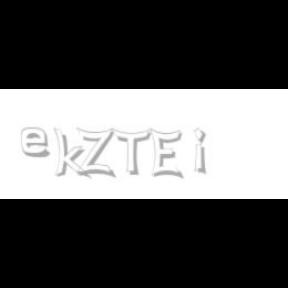E: (150, 128, 182, 180)
T: (111, 128, 151, 176)
Z: (76, 128, 114, 178)
e: (22, 128, 54, 158)
i: (194, 128, 210, 176)
k: (53, 128, 91, 180)
